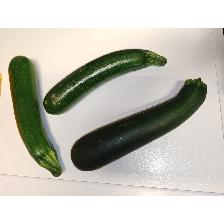Zucchini: (70, 77, 208, 173), (43, 47, 169, 117), (8, 55, 64, 179)
